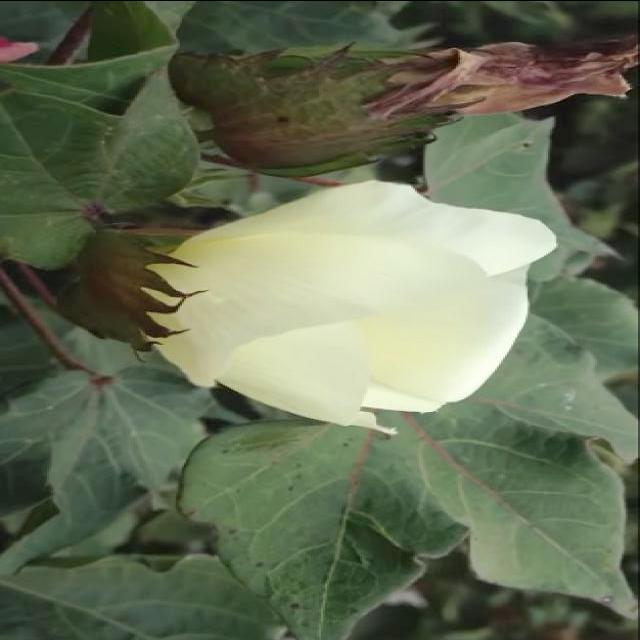Cotton Blossom: (74, 176, 538, 434)
Cotton Bud: (185, 31, 528, 165)
